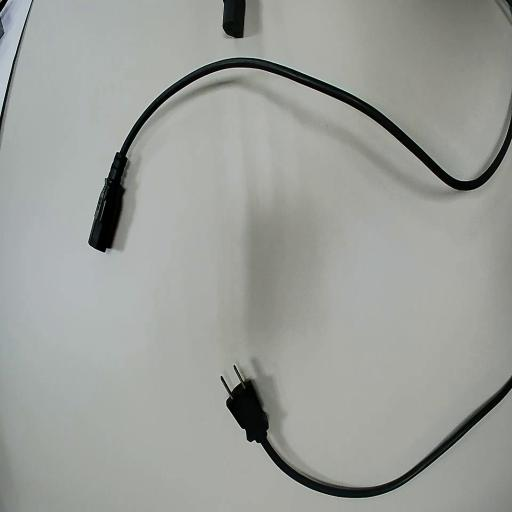wire: (90, 59, 511, 250), (227, 378, 511, 496)
